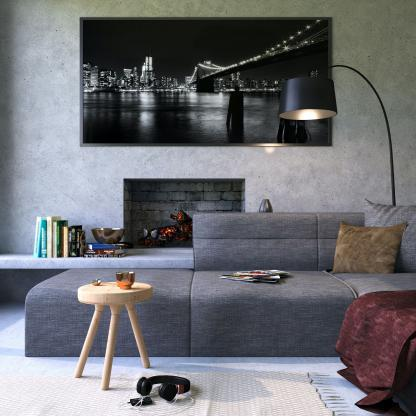bantal: (333, 224, 399, 274)
buku: (31, 217, 83, 259)
gelas: (115, 271, 136, 289)
lampu: (288, 65, 402, 213)
lukisan: (76, 14, 336, 150)
sova: (33, 216, 416, 375)
